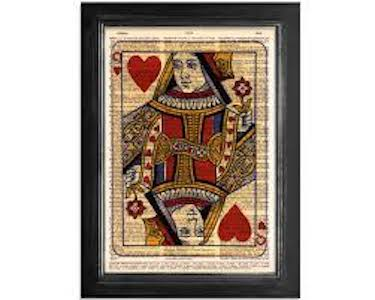QueenOfHearts: (102, 26, 273, 278)
